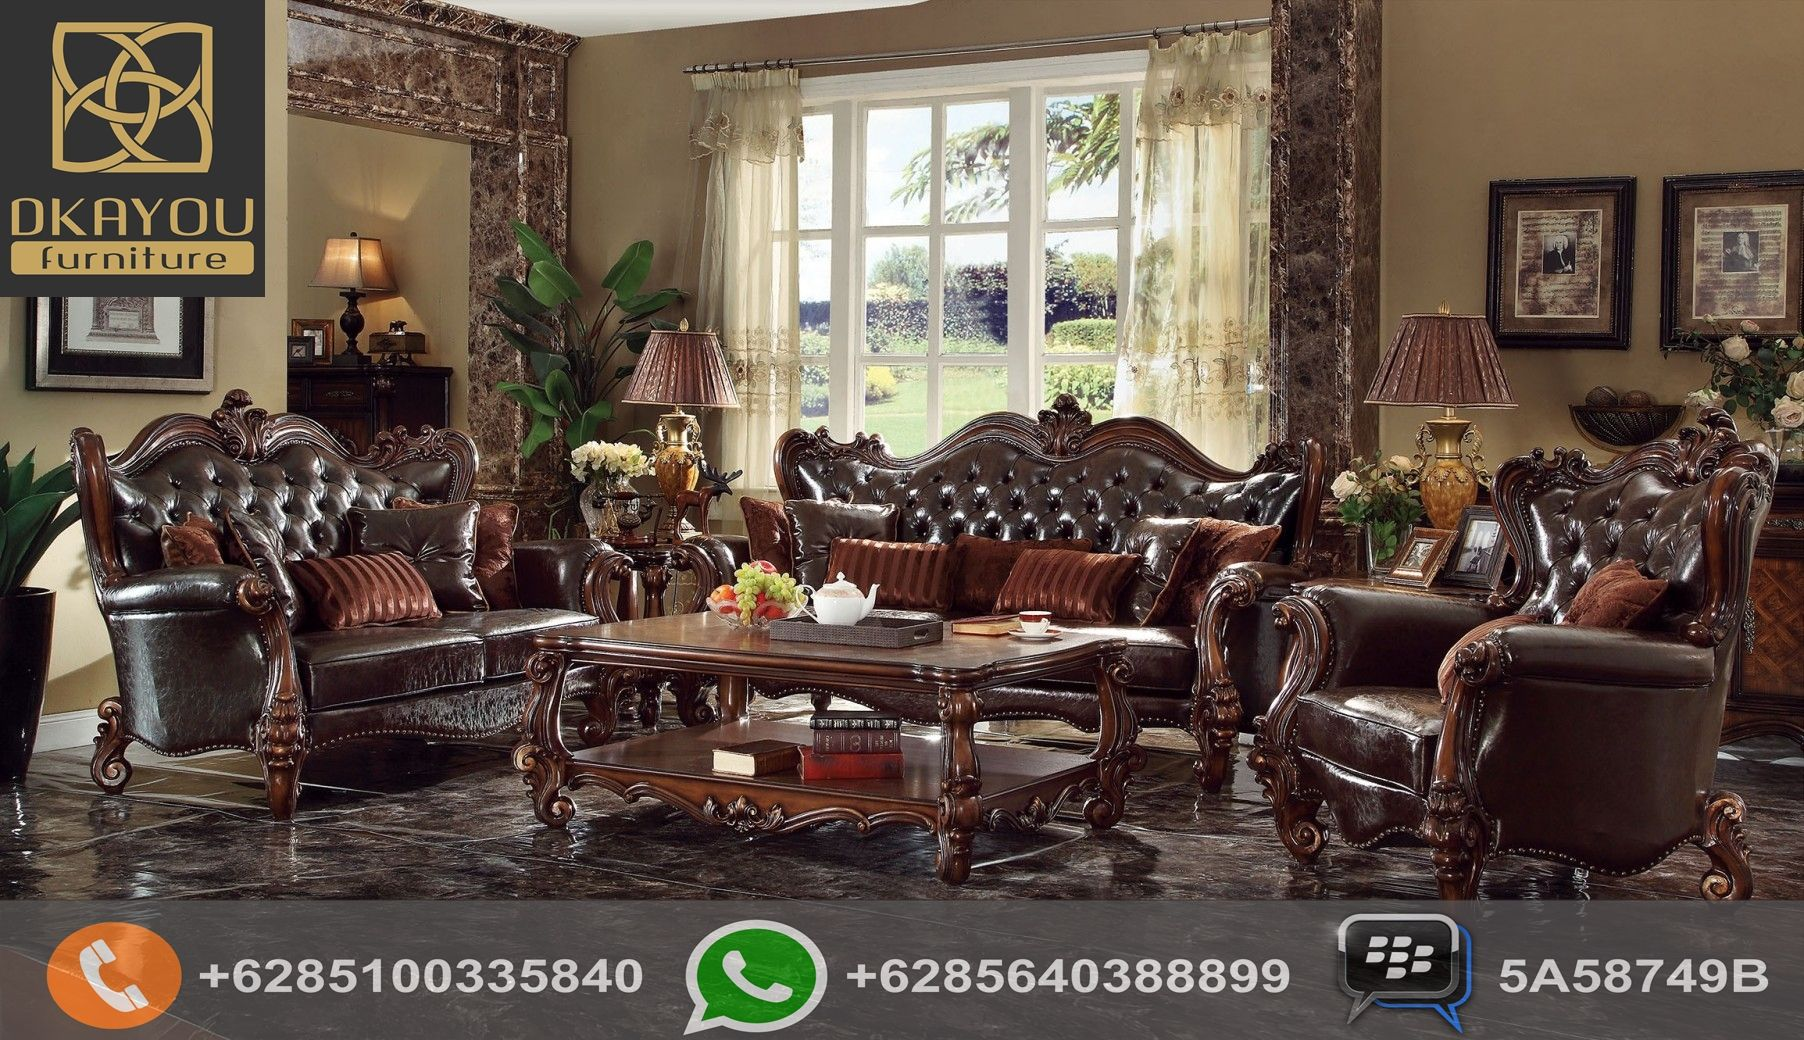bantal: (348, 507, 489, 605), (299, 550, 432, 620), (784, 500, 895, 580), (1014, 549, 1127, 621), (830, 535, 945, 601), (1125, 512, 1194, 617)
buku: (804, 712, 912, 787), (709, 731, 794, 776), (955, 611, 1014, 640)
foto: (1659, 162, 1804, 352), (1481, 174, 1633, 346), (1457, 511, 1509, 593), (1394, 529, 1450, 593)
gelas: (1015, 605, 1058, 646)
kursi: (1268, 420, 1776, 892), (69, 400, 541, 807), (742, 408, 1294, 611)
lampu: (1355, 310, 1482, 511), (623, 325, 743, 443), (306, 229, 394, 351)
lukisan: (14, 295, 217, 399)
meja: (514, 606, 1145, 869)
tanaman: (489, 218, 623, 443), (4, 433, 73, 819), (572, 439, 646, 535), (1343, 460, 1400, 564)
